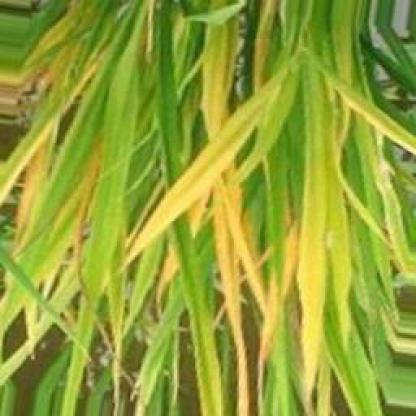Tungro: (115, 99, 266, 269), (198, 29, 257, 416), (289, 96, 344, 411), (3, 94, 76, 268), (330, 78, 416, 156)
